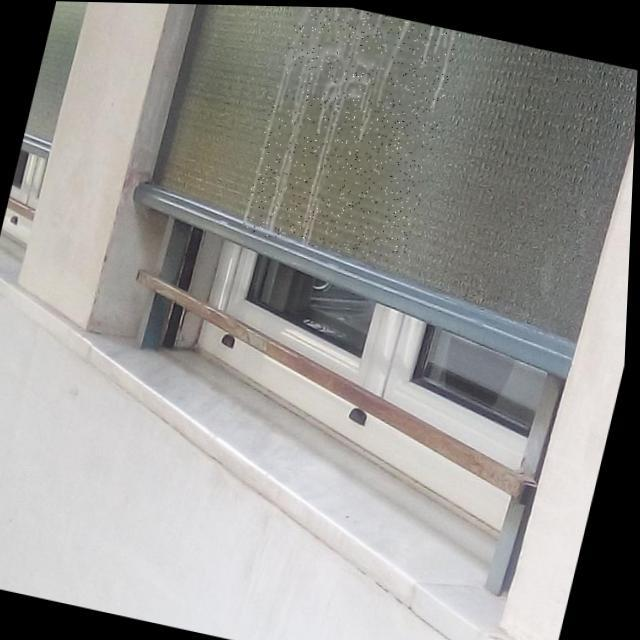-: (241, 4, 461, 266)
